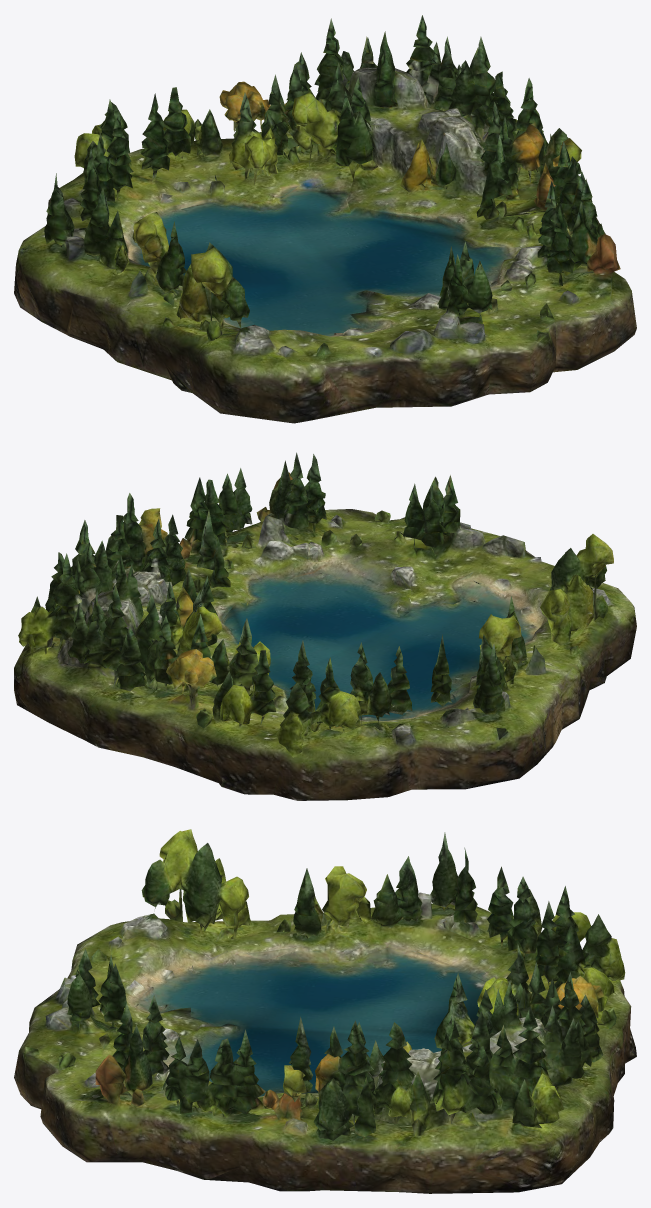
The model's file is city_bolu_yedigoller_jetty.glb.
3 views of the same model, one above another, from view 1: azimuth 30°, elevation 25°; view 2: azimuth 150°, elevation 25°; view 3: azimuth 270°, elevation 25° (orthographic). The views are drawn at different scales.
Parts seen in each view (by area): view 1: Mesh1.0; view 2: Mesh1.0; view 3: Mesh1.0.
Boxes of the visible parts, box(x1,y1,x2,y2) form: Mesh1.0: box(14, 15, 636, 423); Mesh1.0: box(14, 452, 636, 800); Mesh1.0: box(14, 829, 636, 1193).
Size of the model in its own units: 8.51 by 2.6 by 9.
1 material, 1 textured.
